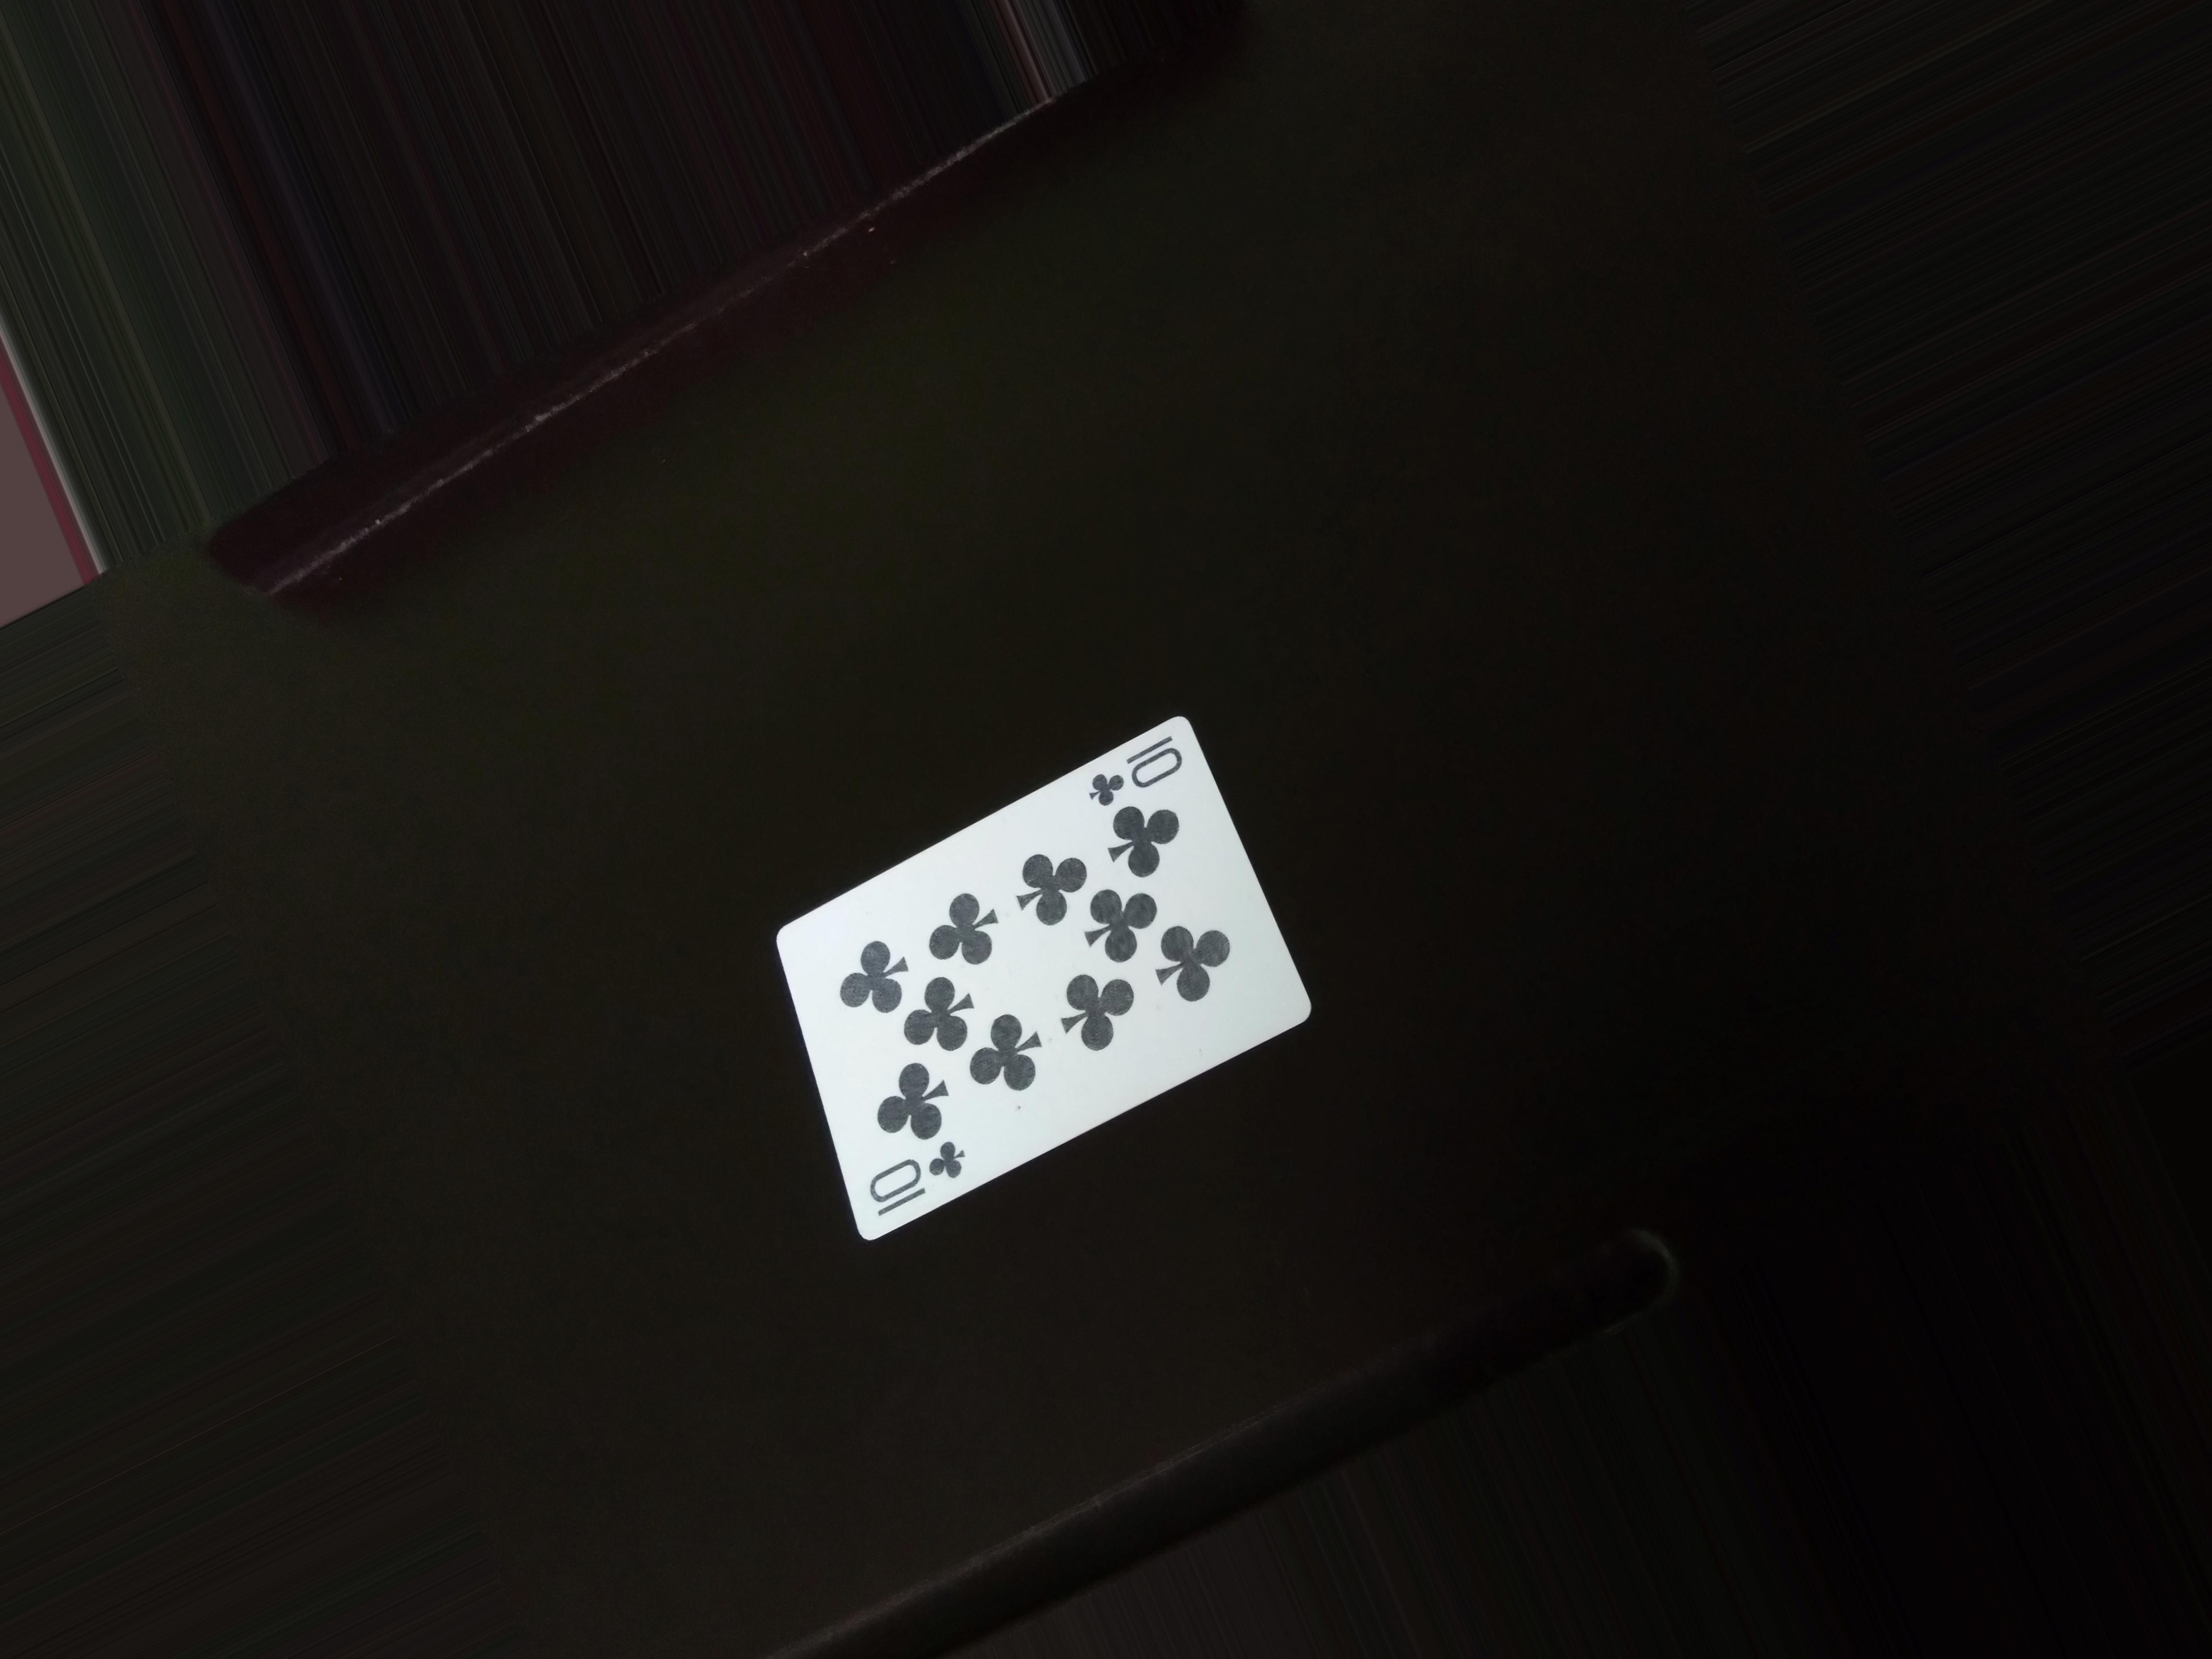10C: (1087, 737, 1186, 803)
